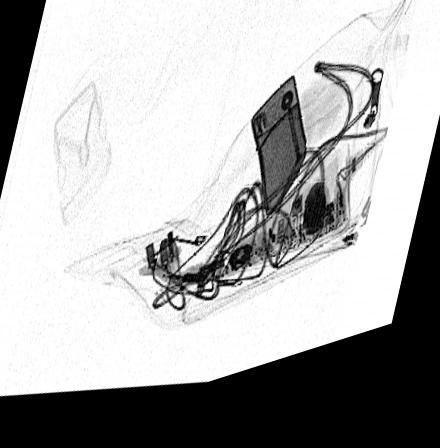Lighter: (251, 91, 307, 233)
